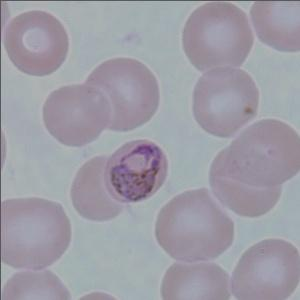Infected: (103, 137, 170, 202)
Uninfected: (82, 56, 158, 131), (155, 190, 234, 261), (181, 1, 254, 77), (0, 197, 73, 269), (208, 145, 281, 216), (226, 118, 300, 187), (192, 66, 260, 139), (1, 12, 70, 78), (41, 85, 113, 147), (230, 237, 300, 300), (70, 154, 127, 221), (161, 257, 233, 300)
